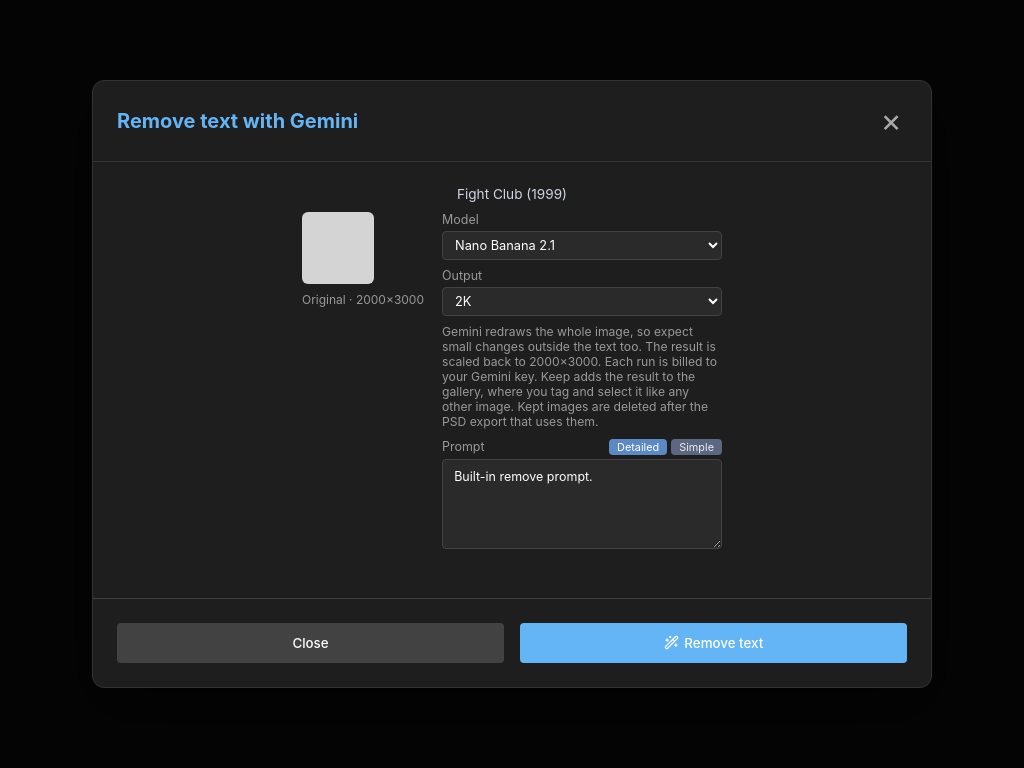
Test case: GeminiImageModal › remove text: prefills the built-in prompt, runs with the chosen size, shows the result
Expected: the heading "Remove text with Gemini" is shown, [117, 109, 358, 133]
Expected: the text "scaled back to 2000×3000" is shown, [442, 324, 716, 368]
Select "4K" in the dropdown named "Output size": [582, 301] box [442, 287, 722, 316]
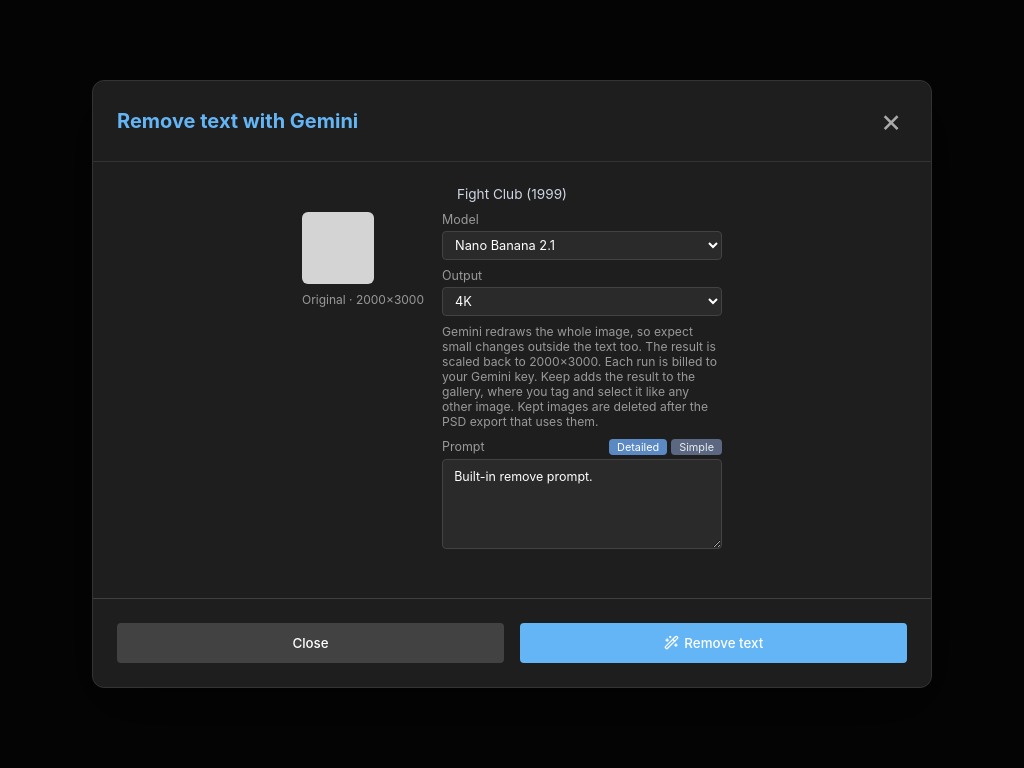
Click the button "Remove text": [714, 643] box [520, 623, 907, 663]
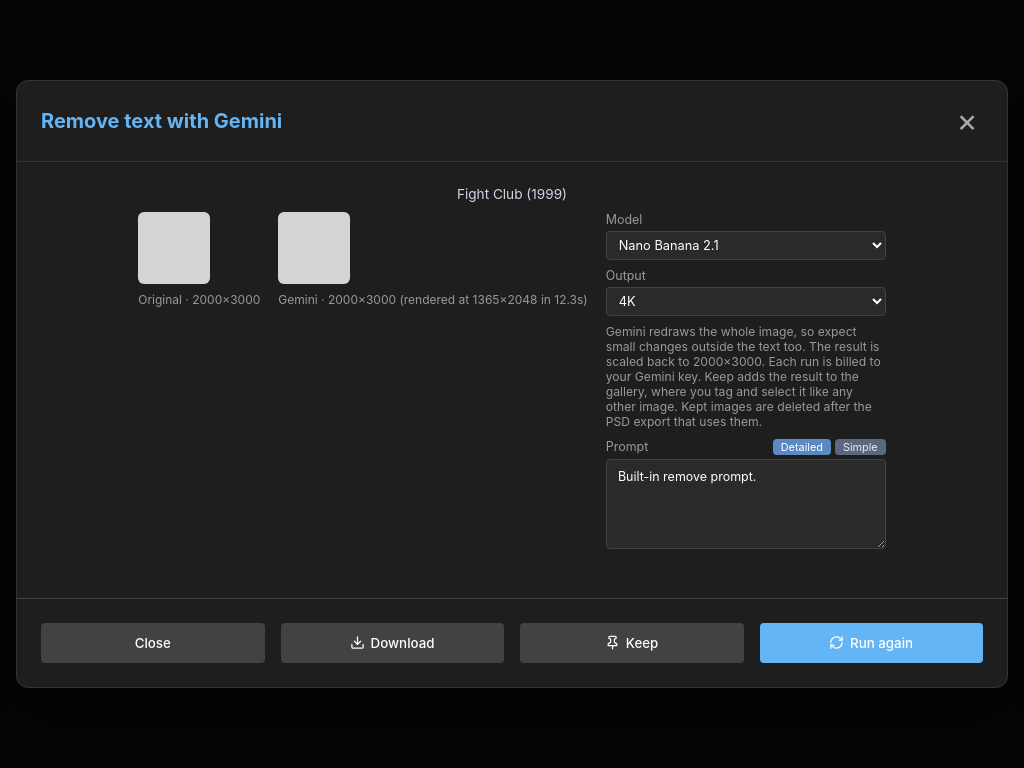
Result: the text "Gemini · 2000×3000 (rendered at 1365×2048 in 12.3s)" is shown at [278, 290, 588, 310]
Result: the button "Download" is shown at [280, 623, 504, 663]
Result: the button "Run again" is shown at [760, 623, 983, 663]
